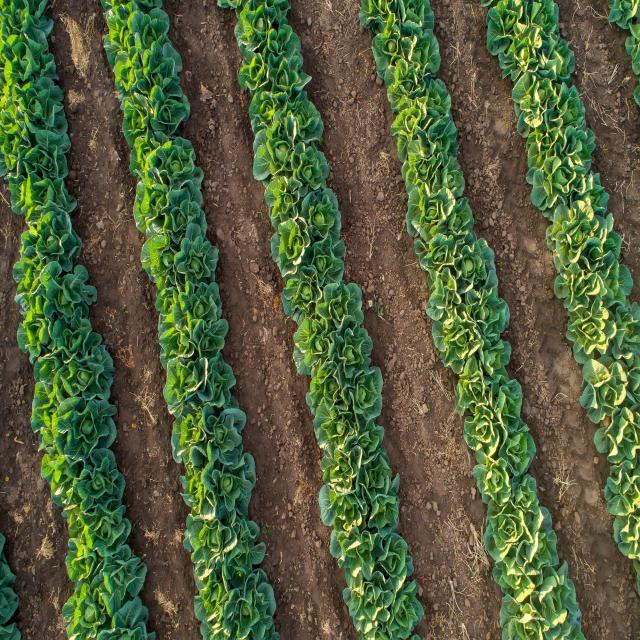row: (293, 0, 509, 640), (433, 1, 640, 640), (164, 0, 362, 640), (43, 0, 215, 640), (0, 168, 77, 640), (557, 0, 640, 315)
